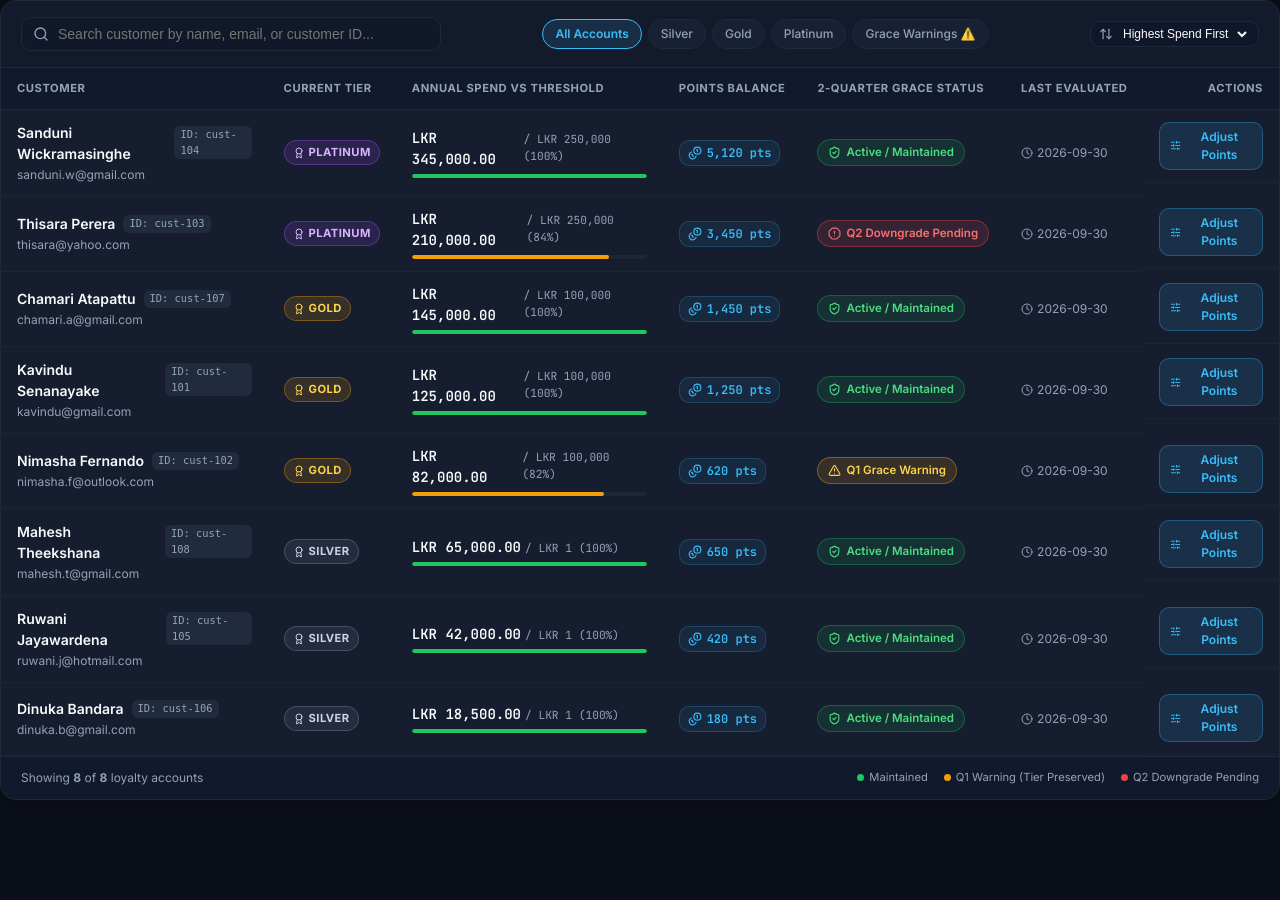
Test case: STORM-FE-020: Loyalty Tier Review Console & 2-Quarter Grace Period Downgrade Management › DEV-199: 2-Quarter Grace Period Downgrade Management & Table Filtering › filters customer accounts by search query and tier pill buttons
Search by name
Type "Nimasha" into the field with test id "loyalty-search-input". click: (231, 34)
box: [21,17,441,51]
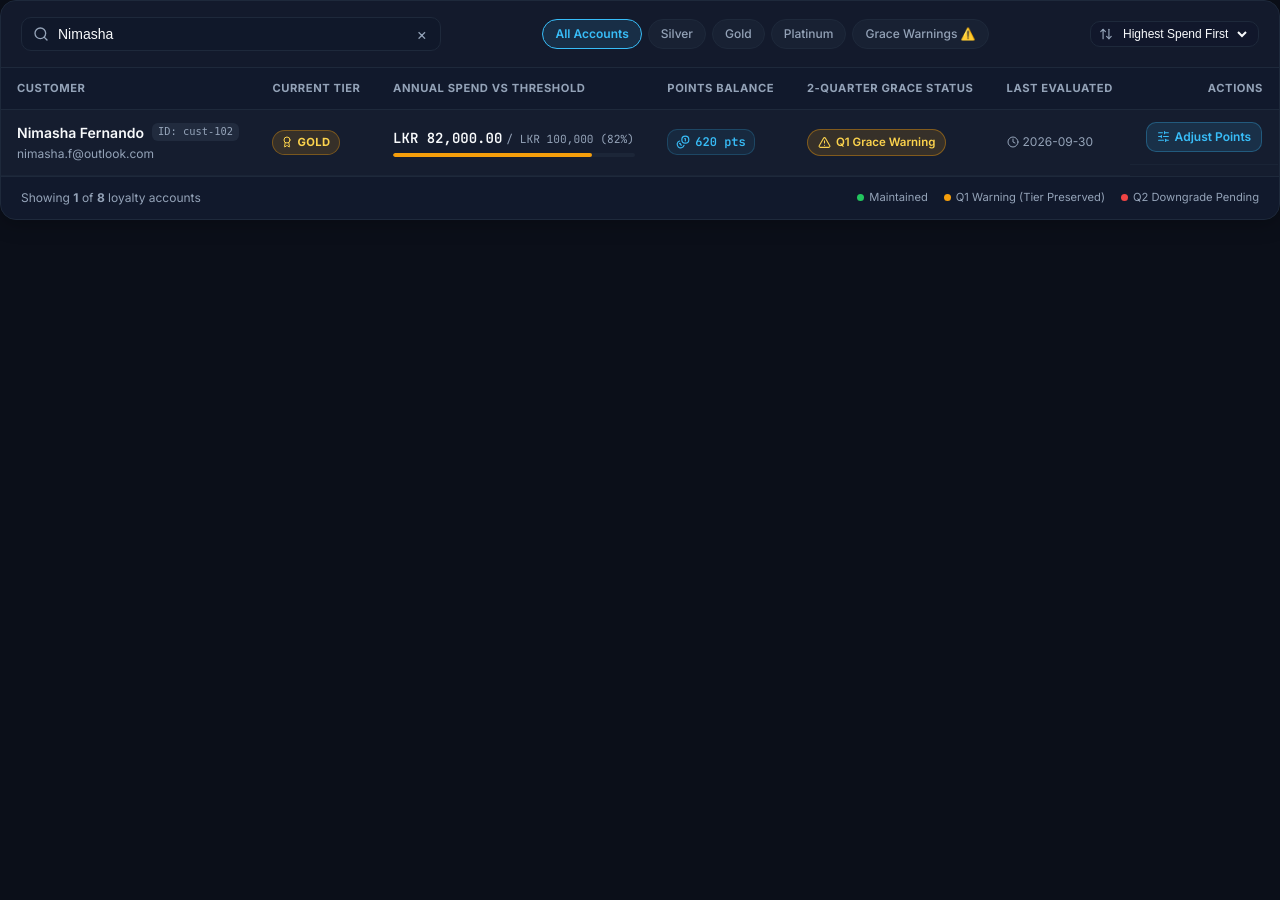
Expected: the text "Nimasha Fernando" is shown, [17,122,144,143]
Result: the text "Kavindu Senanayake" is gone
Clear search
Clear the field with test id "loyalty-search-input". click: (231, 34)
box: [21,17,441,51]
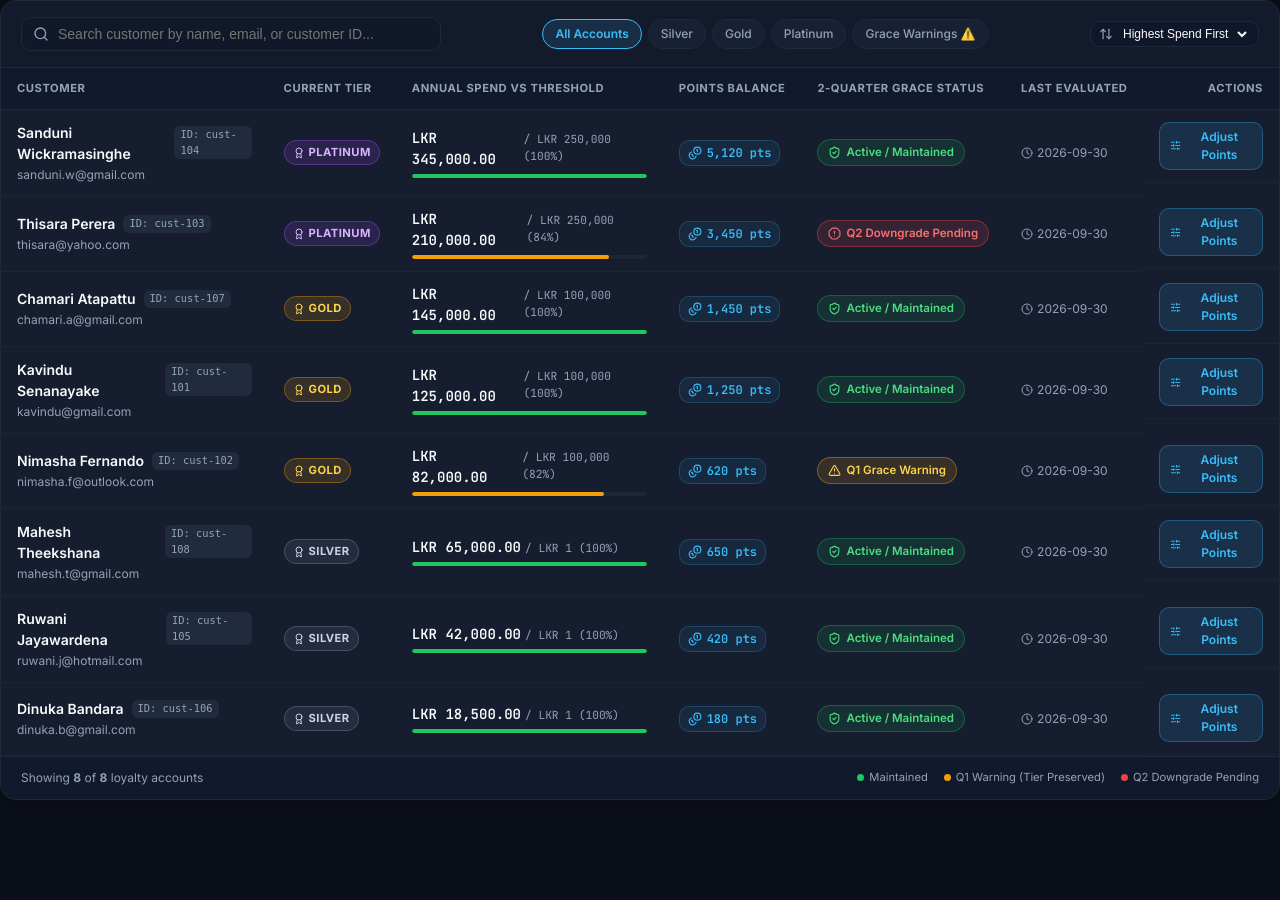
Result: the text "Kavindu Senanayake" is shown at [17,361,100,399]
Filter by "Grace Warnings ⚠️"
Click the tab with test id "filter-tier-grace_warning". click: (920, 34)
box: [852,19,988,49]
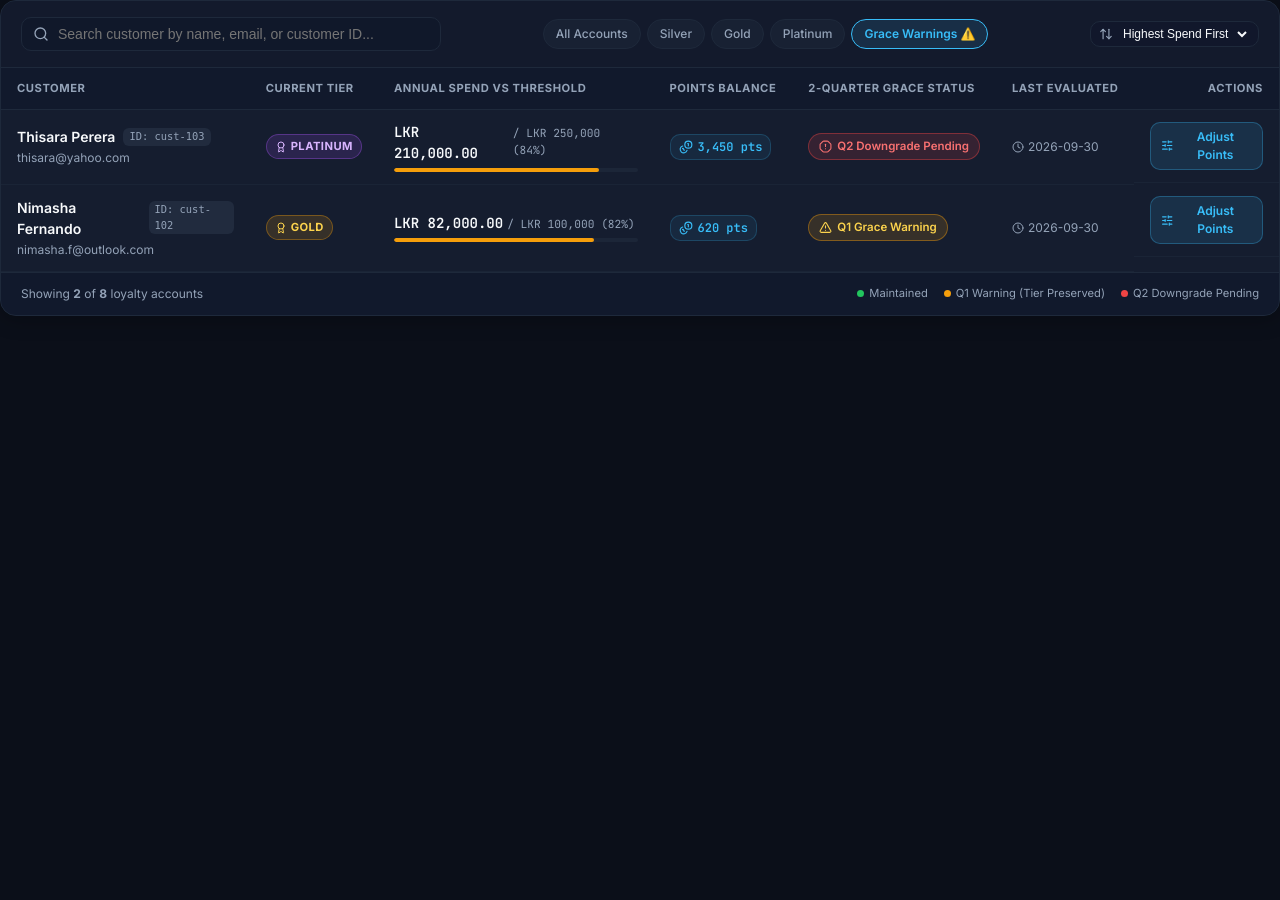
Expected: the text "Nimasha Fernando" is shown, [17,199,81,237]
Result: the text "Thisara Perera" is shown at [17,126,115,147]
Result: the text "Kavindu Senanayake" is gone
